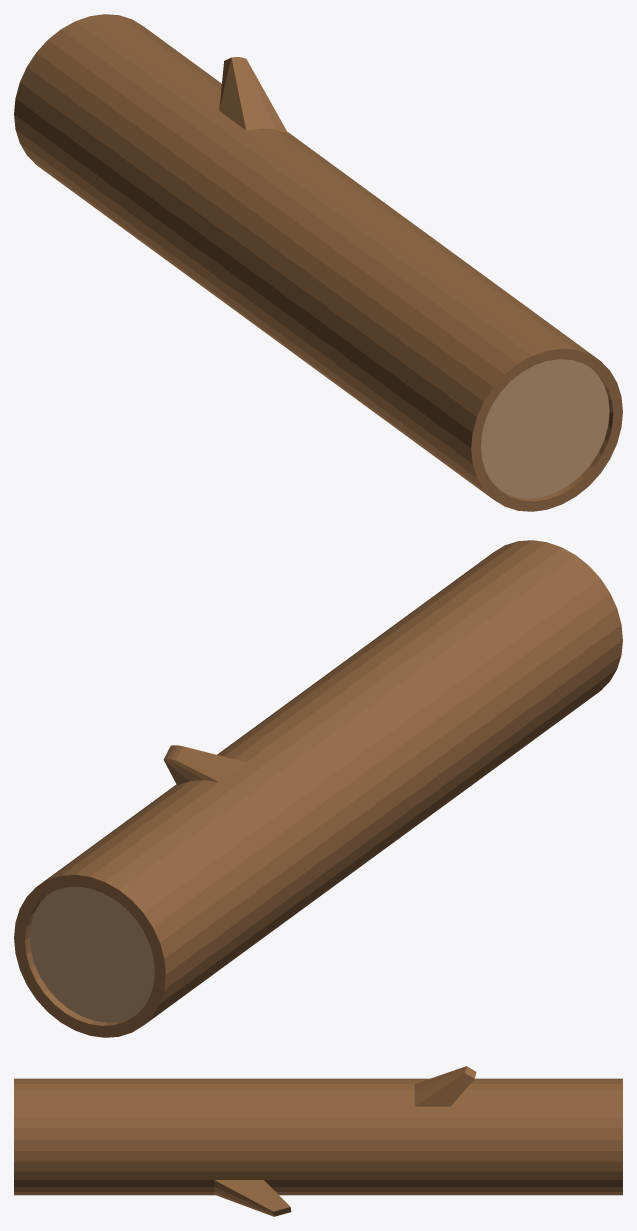
Rendered from Log.dae.
3 views of the same model, one above another, from view 1: azimuth 30°, elevation 25°; view 2: azimuth 150°, elevation 25°; view 3: azimuth 270°, elevation 25° (orthographic). The views are drawn at different scales.
Visible parts, largest first — view 1: Cylinder.001; view 2: Cylinder.001; view 3: Cylinder.001.
Boxes of the visible parts, <box> form: Cylinder.001: <box>14,14,622,511</box>; Cylinder.001: <box>14,540,622,1037</box>; Cylinder.001: <box>14,1066,622,1216</box>.
Bounding box in the file's own units: 2.61 × 11.81 × 2.82.
Materials: 1 (1 with a texture image).
